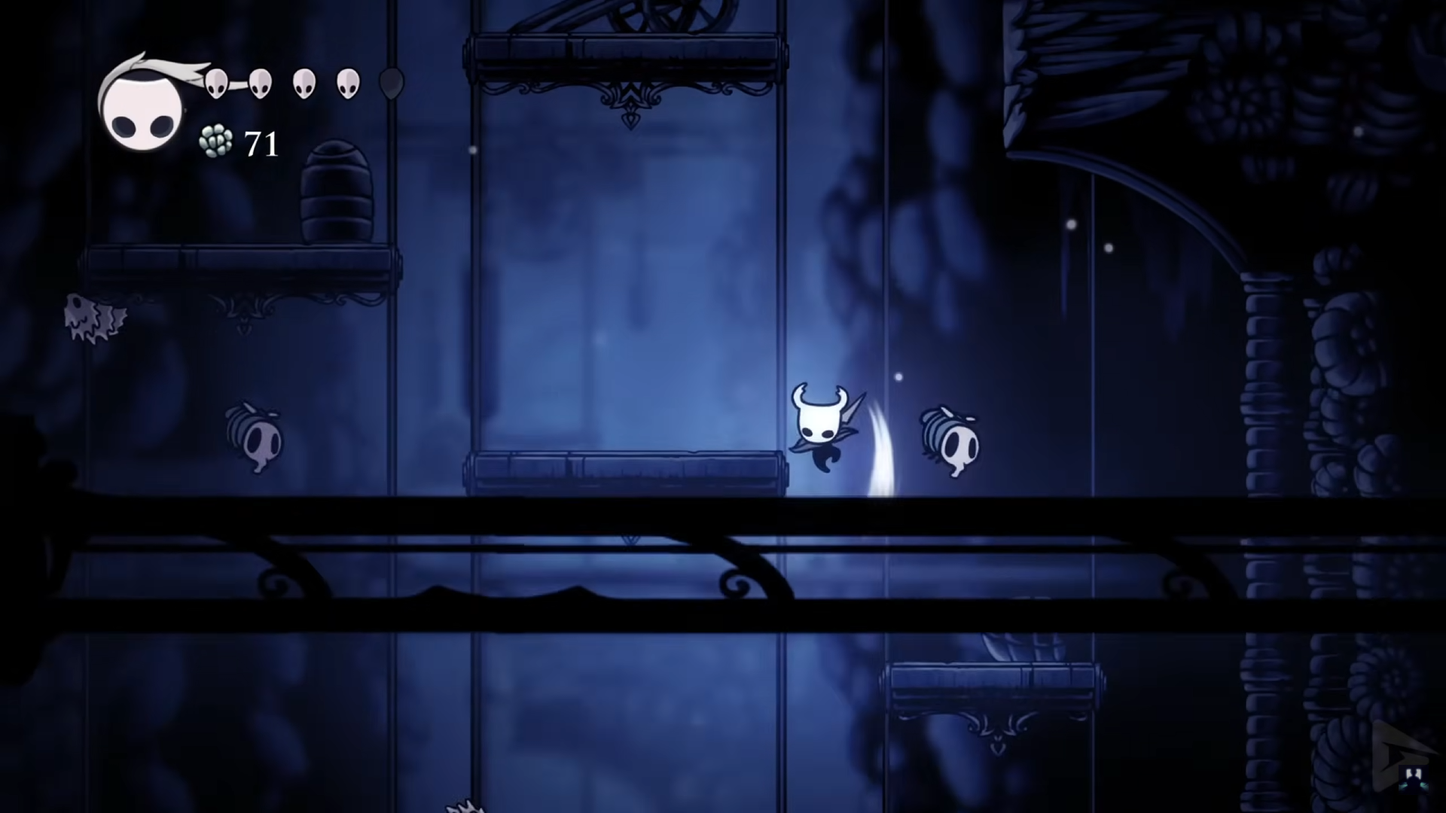HK: (782, 378, 861, 476), (433, 794, 491, 813)
